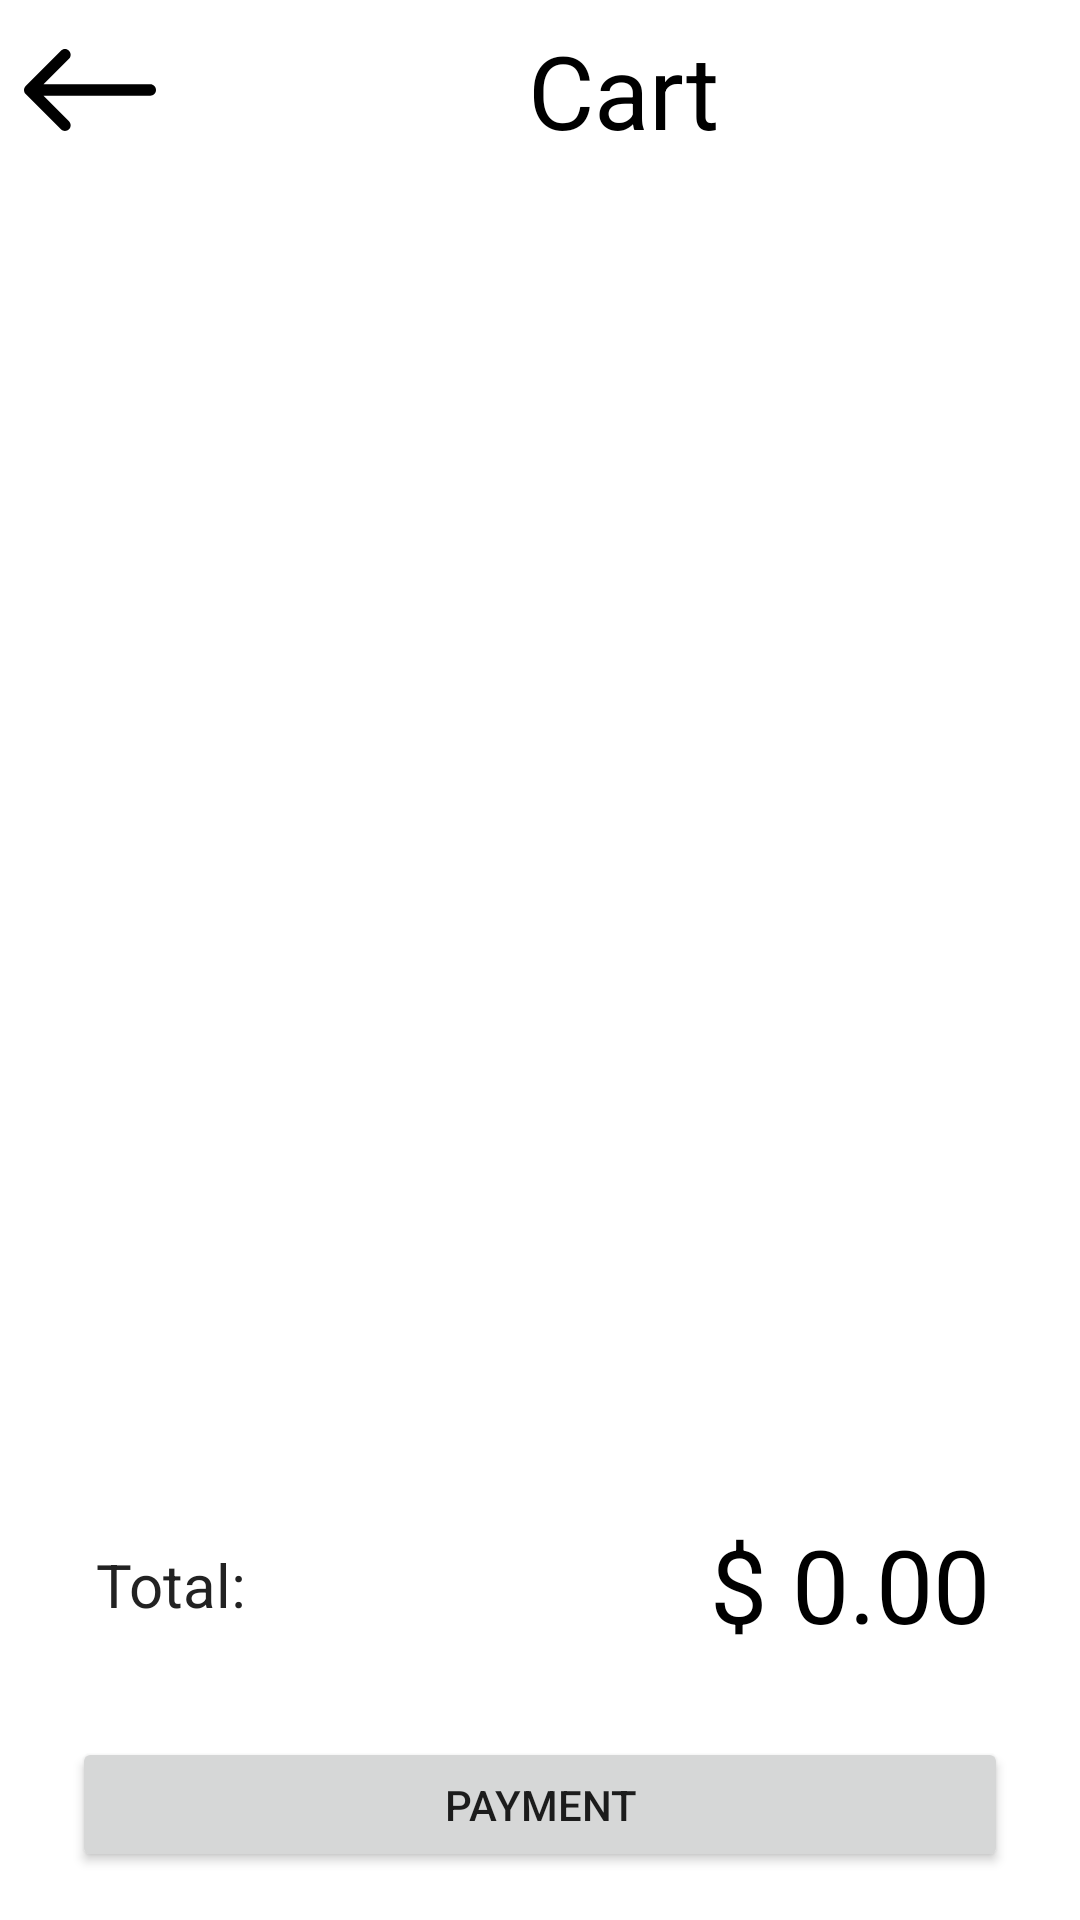

Named icons in this screenshot (1080 × 1920) and their bounding boxes, {"left": x1, "top": y1, "right": x2, "bottom": y2}:
left arrow: {"left": 24, "top": 49, "right": 156, "bottom": 131}
